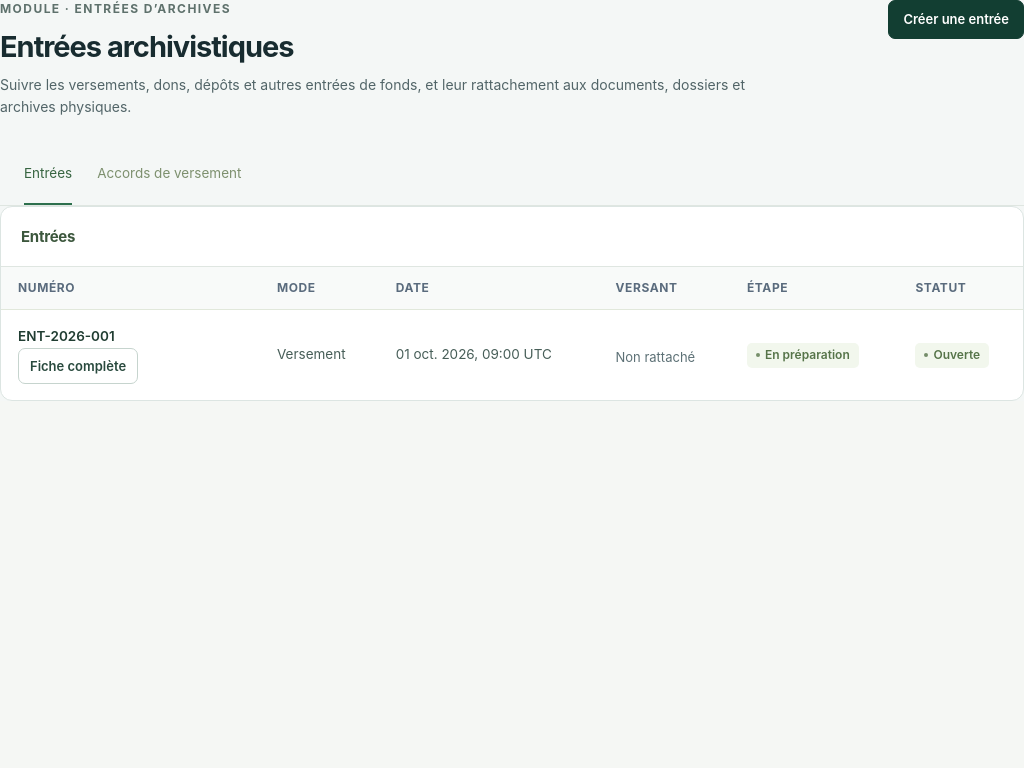
Test: un accord suspendu empêche la soumission et le dit
Click the button "ENT-2026-001".
click(113, 337)  # box [18,326,208,348]
(page scrolled)
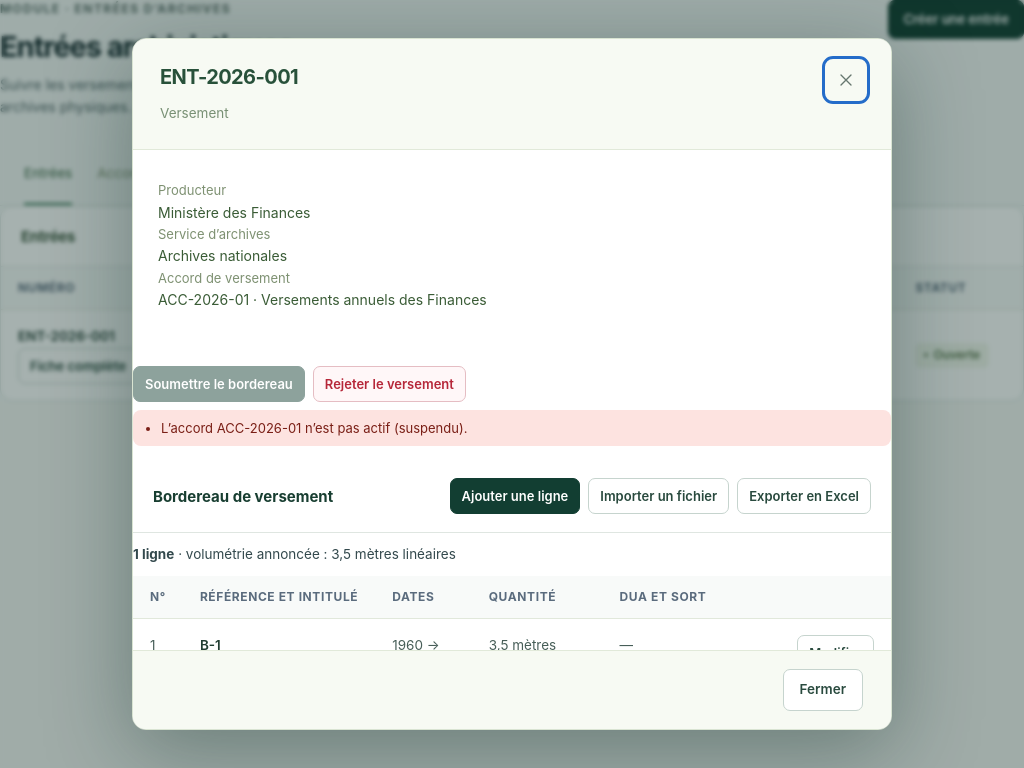
Expected: the list item "L’accord ACC-2026-01 n’est pas actif (suspendu)." is shown, [161,420,467,436]
Expected: the button "Soumettre le bordereau" is disabled, [133,366,305,402]
